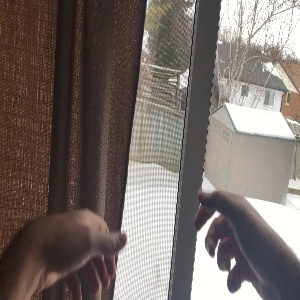hand: (194, 191, 300, 296), (12, 209, 129, 300)
